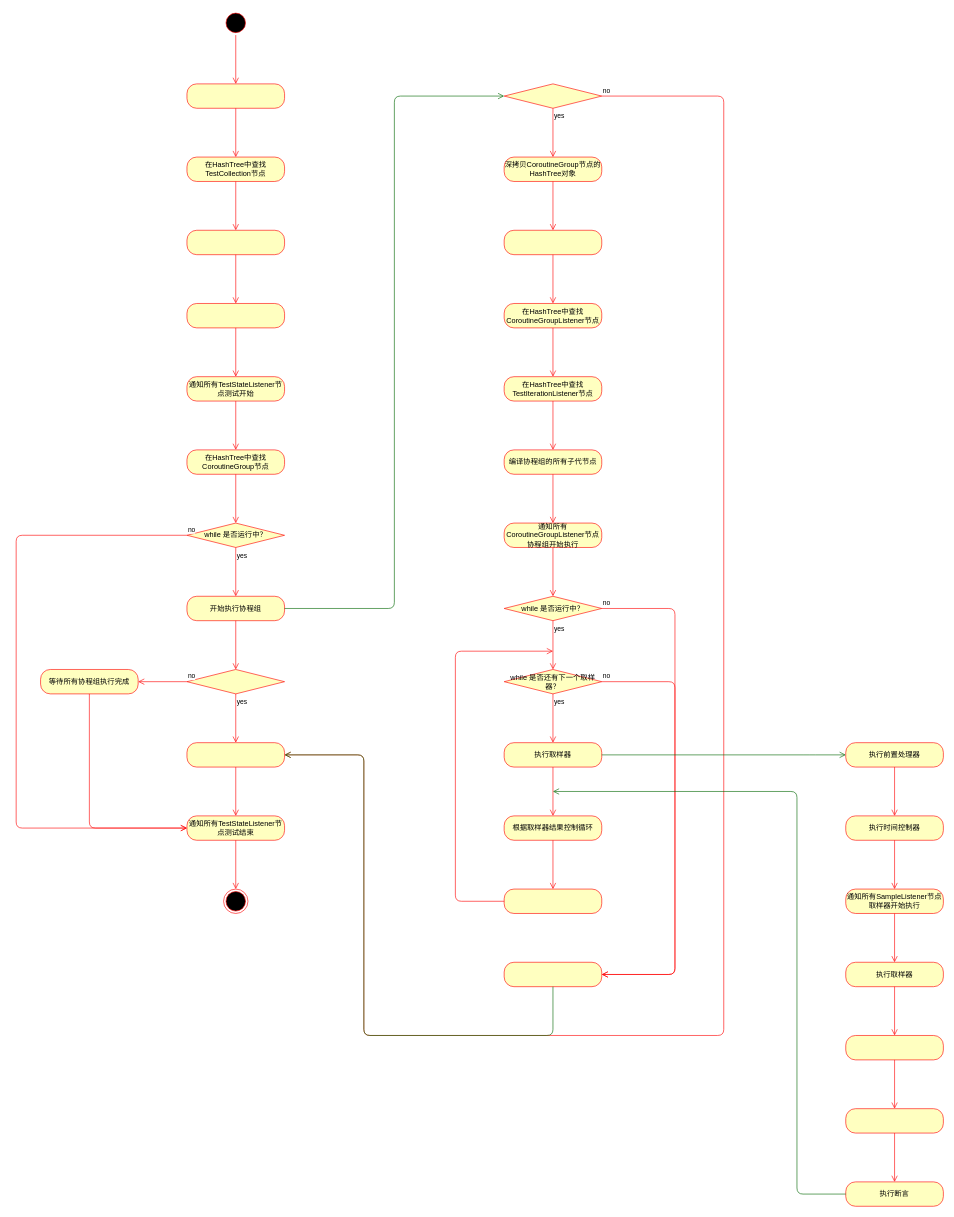
This 954x1217 diagram has some shape labels left out. The shapes that lost their labels are listed below. From the top down, each one's centre as x and y in pixels, then its label:
pixel 235 95: 加载测试脚本，反序列化为HashTree对象
pixel 553 95: for in 需要启动的协程数
pixel 235 242: 创建主协程，在主协程下继续执行脚本
pixel 553 242: 根据配置启动对应数量的协程去执行协程组
pixel 235 315: 在HashTree中查找TestStateListener节点
pixel 235 681: if 是否顺序执行？
pixel 235 754: 等待当前协程组执行完成
pixel 553 900: 获取下一个取样器
pixel 553 974: 通知所有 CoroutineGroupListener 节点协程组执行结束
pixel 894 1047: 通知所有 SampleListener 节点取样器执行结束
pixel 894 1120: 执行后置处理器
